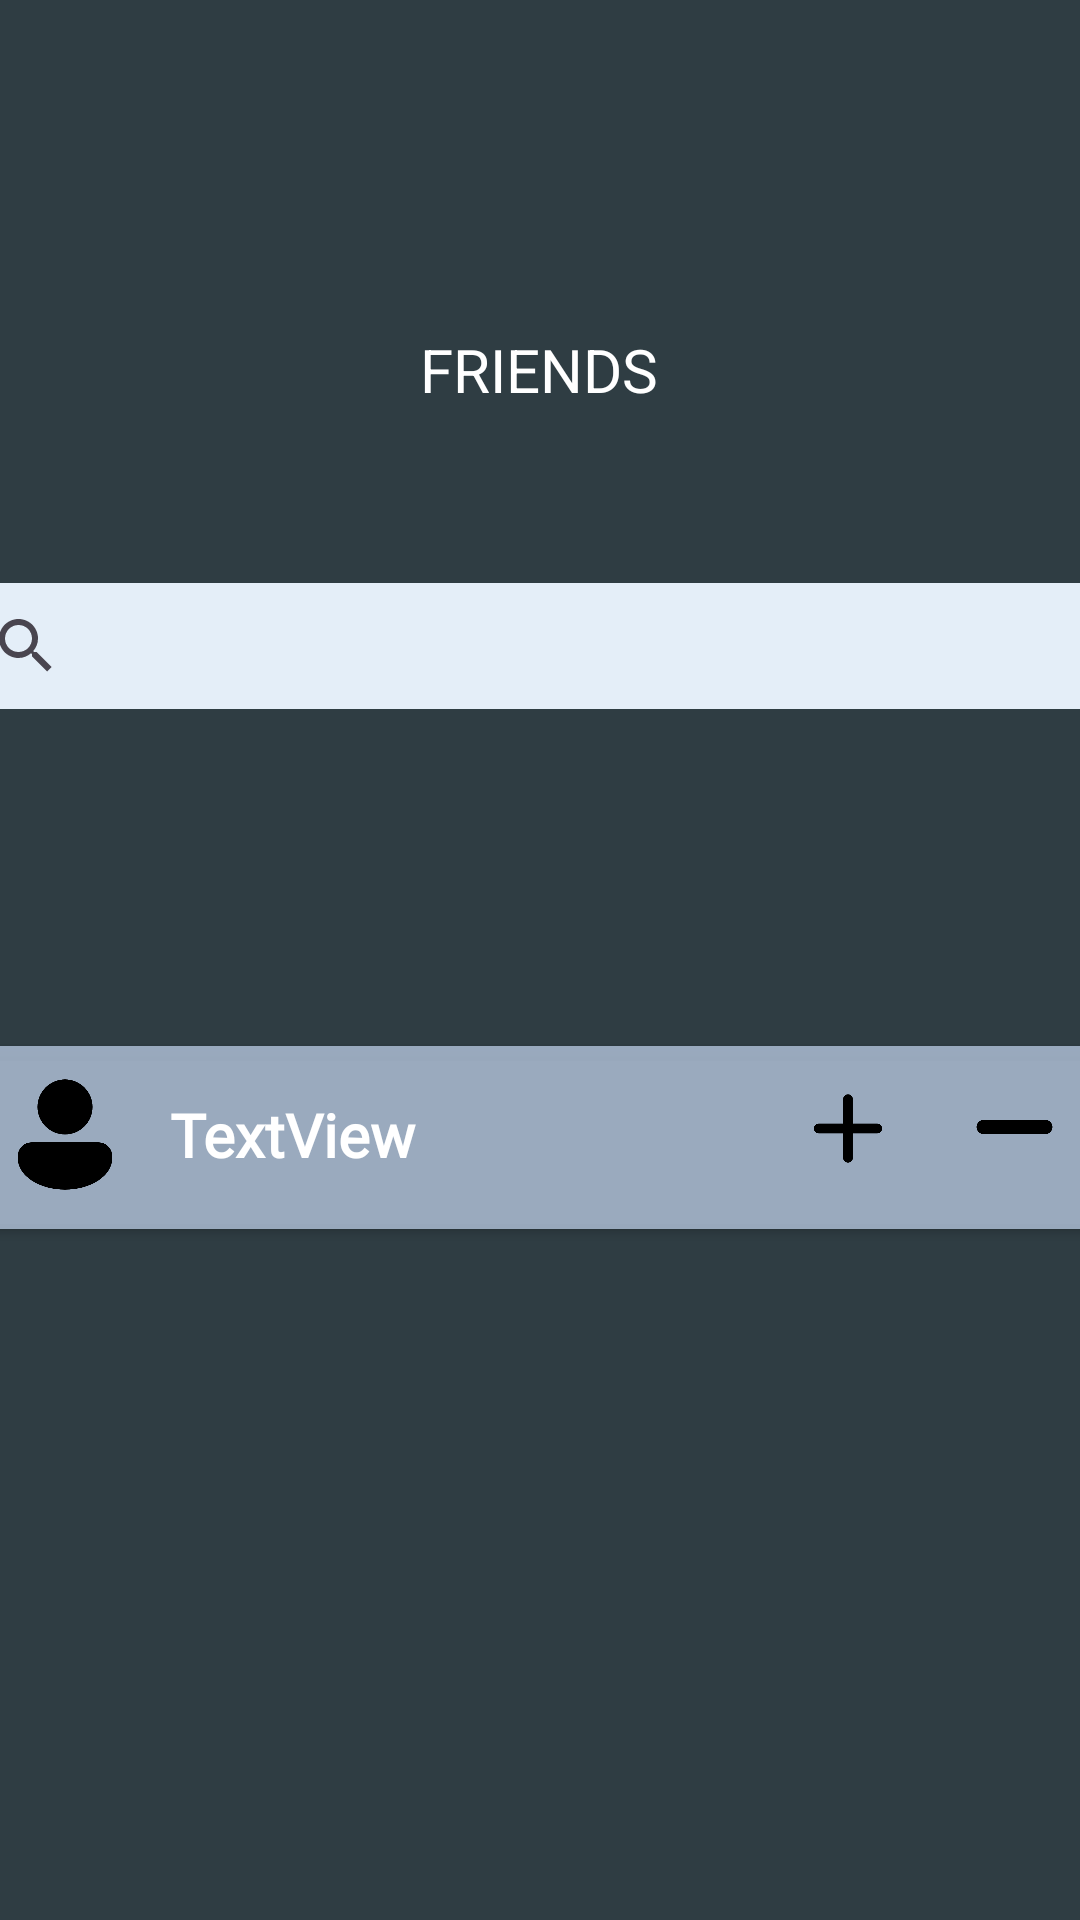

Where icons sit on this 1080*1920 app screen, as (x1, y1, x2, y2):
minus: (976, 1120, 1053, 1134)
person: (18, 1079, 112, 1190)
plus: (814, 1094, 882, 1163)
